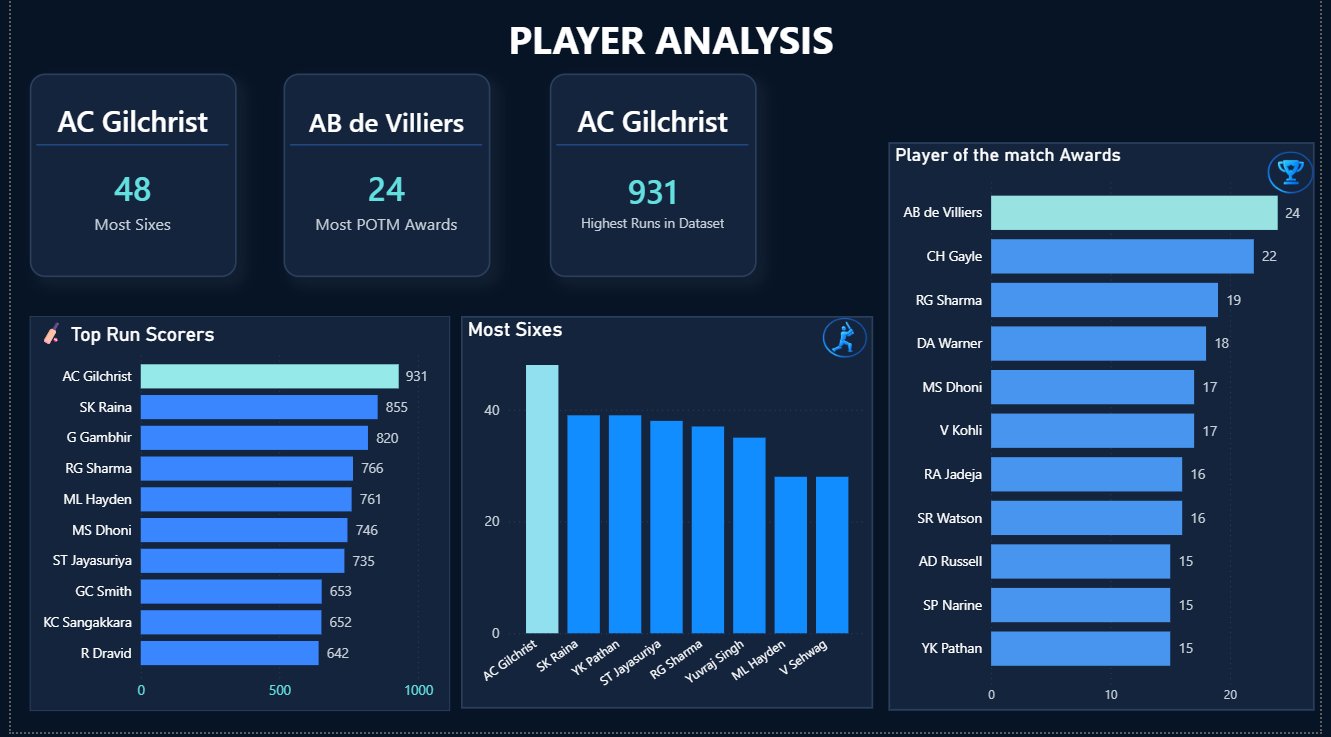

Layout of this report page (visuals, bound fields, positions):
{"tool":"powerbi","page":{"name":"Page 2","canvas":[1280,720],"ordinal":1},"visuals":[{"type":"group","id":"g1","title":"Group 1","box":[18.3,75.8,710.5,199.3],"z":0},{"type":"cardVisual","fields":{"Data":["CountNonNull(ipl_analysis deliveries.batsman_runs)"],"Rows":["ipl_analysis deliveries.batter"]},"box":[18.3,75.8,202,199.3],"z":0,"group":"g1"},{"type":"clusteredBarChart","title":"Player of the match Awards","fields":{"Y":["CountNonNull(ipl_analysis matches.player_of_match)"],"Category":["ipl_analysis matches.player_of_match"]},"box":[857.9,143.4,417,556.4],"z":0,"group":"g3"},{"type":"clusteredColumnChart","title":"Most Sixes","fields":{"Y":["CountNonNull(ipl_analysis deliveries.batsman_runs)"],"Category":["ipl_analysis deliveries.batter"]},"box":[440.2,313,403.5,384],"z":0,"group":"g2"},{"type":"image","box":[790.9,314.2,49,40.4],"z":5,"group":"g2"},{"type":"cardVisual","fields":{"Data":["CountNonNull(ipl_analysis matches.player_of_match)"],"Rows":["ipl_analysis matches.player_of_match"]},"box":[266.6,76,202,199.3],"z":1000,"group":"g1"},{"type":"image","box":[1222.3,152,58.7,42.8],"z":1000,"group":"g3"},{"type":"barChart","title":"🏏 Top Run Scorers","fields":{"Category":["ipl_analysis deliveries.batter"],"Y":["Sum(ipl_analysis deliveries.batsman_runs)"]},"box":[18.3,313,410.9,386.4],"z":1000},{"type":"cardVisual","fields":{"Rows":["ipl_analysis deliveries.batter"],"Data":["Sum(ipl_analysis deliveries.batsman_runs)"]},"box":[526.8,75.8,202,199.3],"z":2000,"group":"g1"},{"type":"group","id":"g2","title":"Group 2","box":[440.2,313,403.5,384],"z":2000},{"type":"group","id":"g3","title":"Group 3","box":[857.9,143.4,423.1,556.4],"z":3000},{"type":"textbox","box":[481.8,12.2,376.6,63.6],"z":4000}]}

Visuals, with their boxes in screenshot pixels (x1, y1, x2, y2), scaled from the page's 1280x720 canvas onto the 1331x737 screenshot:
"Group 1" group: left=19, top=78, right=758, bottom=282
cardVisual - CountNonNull(ipl_analysis deliveries.batsman_runs) x ipl_analysis deliveries.batter: left=19, top=78, right=229, bottom=282
"Player of the match Awards" clusteredBarChart: left=892, top=147, right=1326, bottom=716
"Most Sixes" clusteredColumnChart: left=458, top=320, right=877, bottom=713
image: left=822, top=322, right=873, bottom=363
cardVisual - CountNonNull(ipl_analysis matches.player_of_match) x ipl_analysis matches.player_of_match: left=277, top=78, right=487, bottom=282
image: left=1271, top=156, right=1330, bottom=199
"🏏 Top Run Scorers" barChart: left=19, top=320, right=446, bottom=716
cardVisual - ipl_analysis deliveries.batter x Sum(ipl_analysis deliveries.batsman_runs): left=548, top=78, right=758, bottom=282
"Group 2" group: left=458, top=320, right=877, bottom=713
"Group 3" group: left=892, top=147, right=1330, bottom=716
textbox: left=501, top=12, right=893, bottom=78
